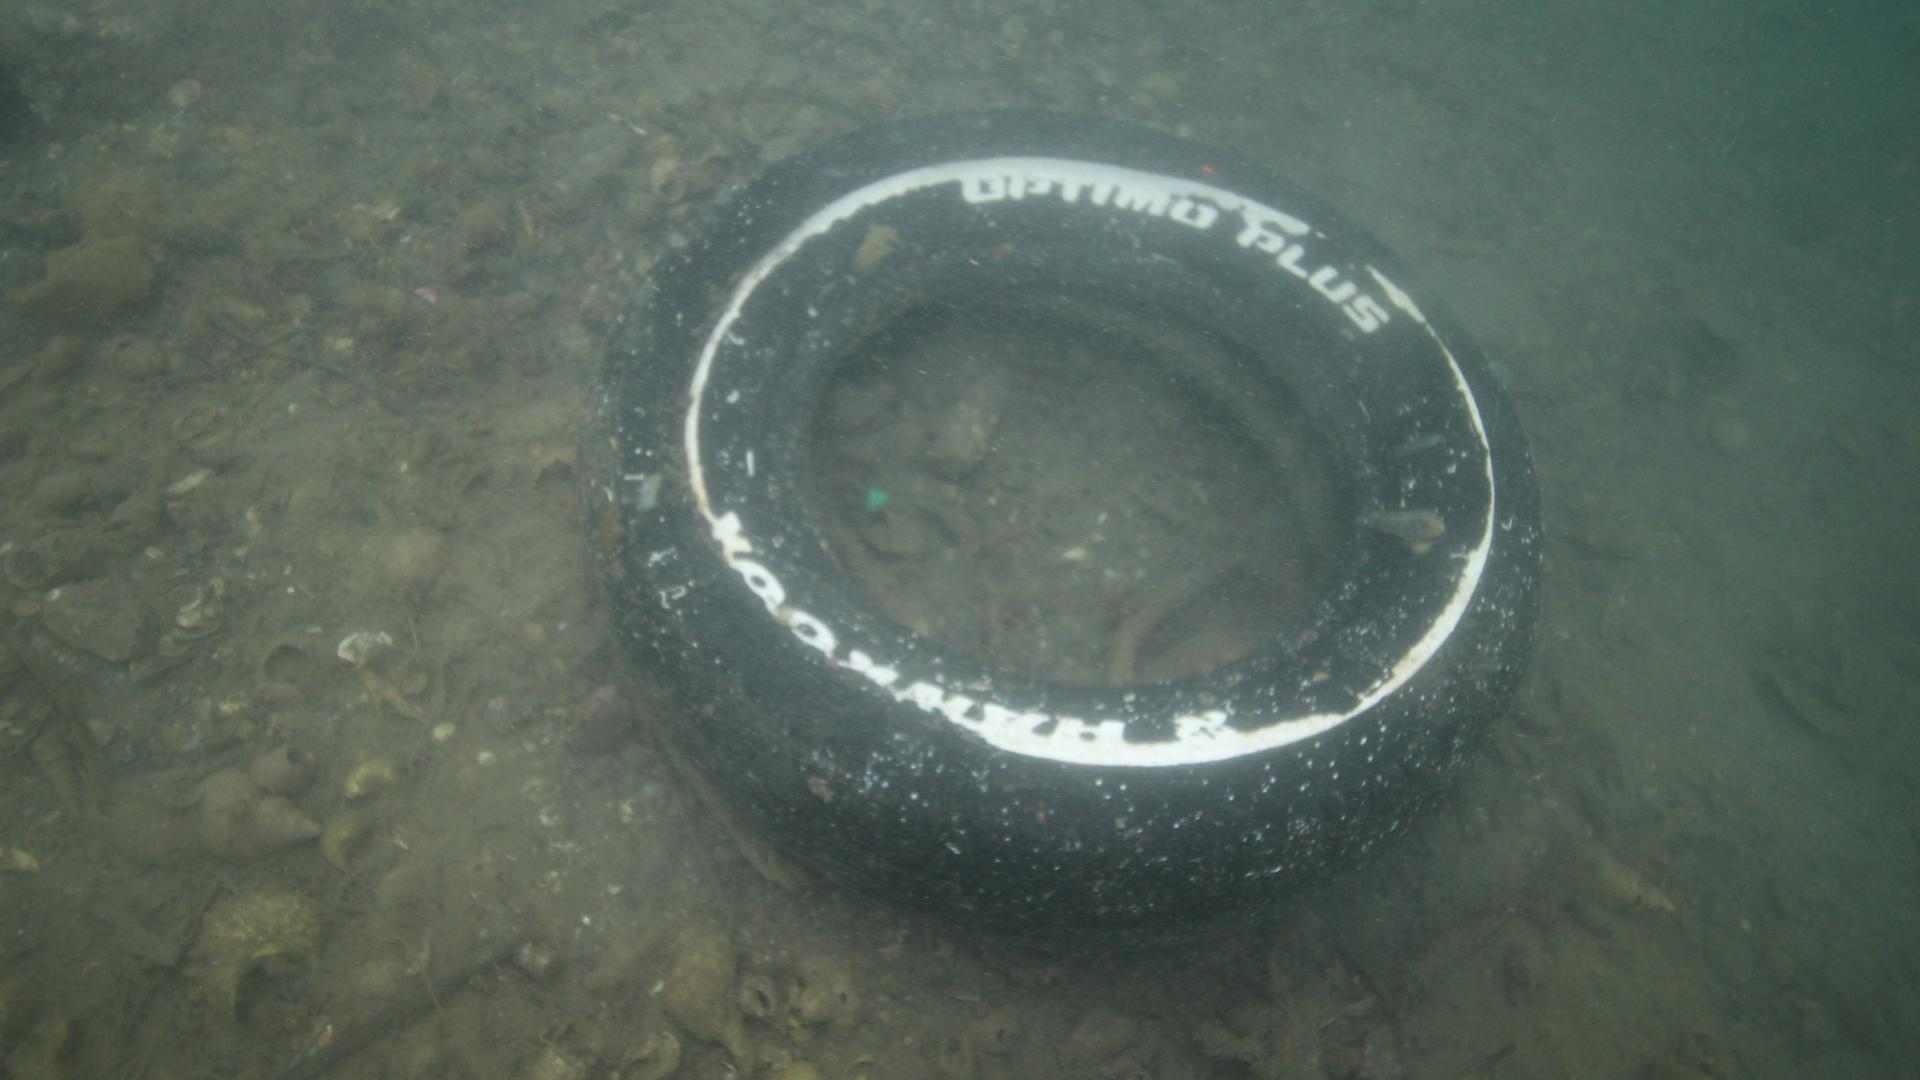tire: (568, 102, 1540, 955)
